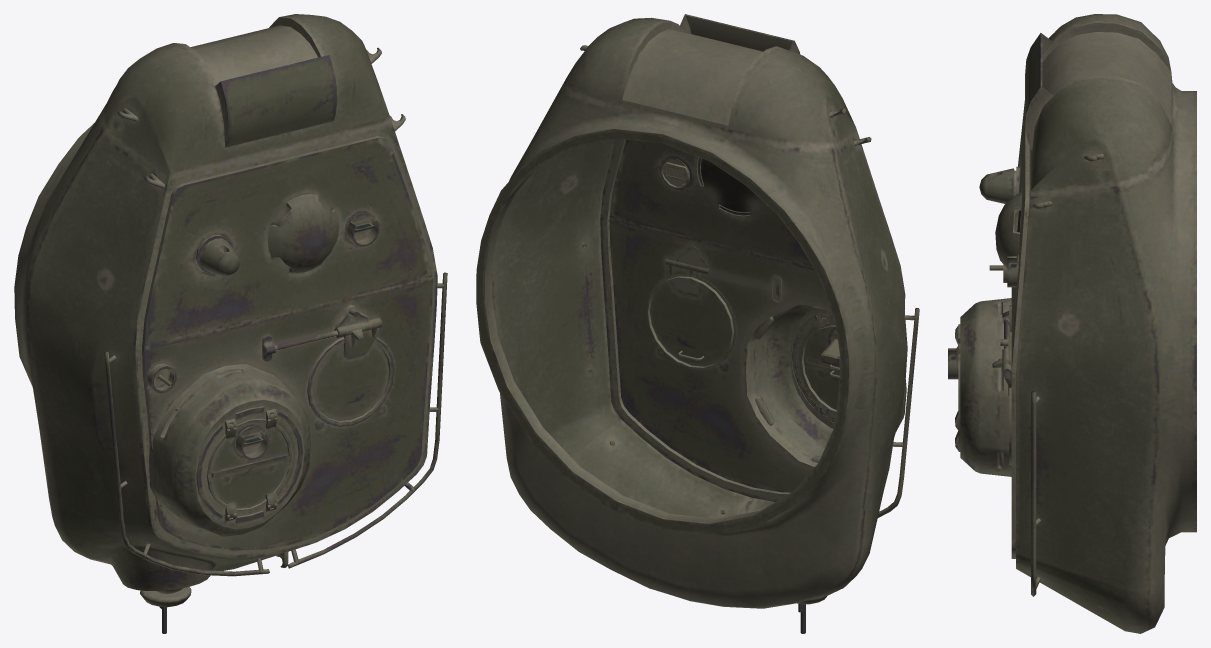
File: Turret_01.glb
3 renders of one model, left to right at view 1: azimuth 30°, elevation 25°; view 2: azimuth 150°, elevation 25°; view 3: azimuth 270°, elevation 25°, orthographic. The views are drawn at different scales.
Parts seen in each view (by area): view 1: set_0_group_0; view 2: set_0_group_0; view 3: set_0_group_0.
Boxes of the visible parts, left/top/right/bottom form: set_0_group_0: left=14, top=14, right=447, bottom=633; set_0_group_0: left=476, top=14, right=919, bottom=633; set_0_group_0: left=948, top=14, right=1196, bottom=633.
Size of the model in its own units: 2.21 by 3.16 by 1.22.
1 material, 1 textured.
